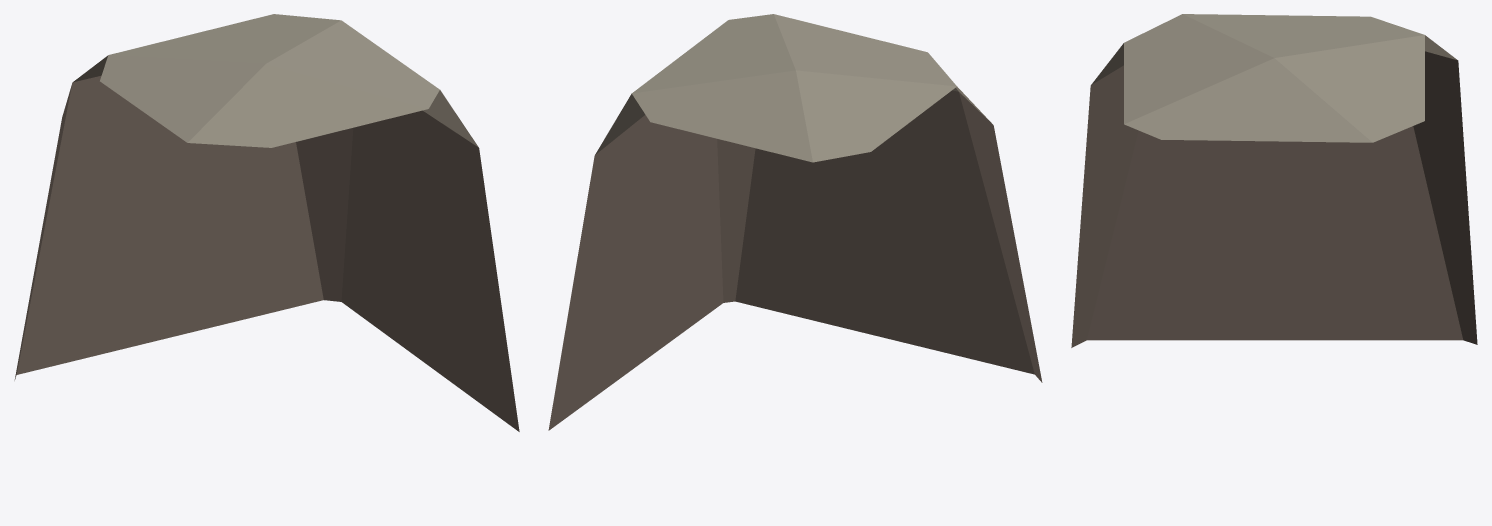
File: natural-block-stone.gltf
3 views of the same model, side by side, from view 1: azimuth 30°, elevation 25°; view 2: azimuth 150°, elevation 25°; view 3: azimuth 270°, elevation 25° (orthographic). The views are drawn at different scales.
Visible parts, largest first — view 1: natural-block-stone; view 2: natural-block-stone; view 3: natural-block-stone.
Part boxes in pixels (<box>): natural-block-stone: <box>14,14,519,431</box>; natural-block-stone: <box>548,14,1042,430</box>; natural-block-stone: <box>1071,14,1477,347</box>.
Bounding box in the file's own units: 1 × 1 × 1.
